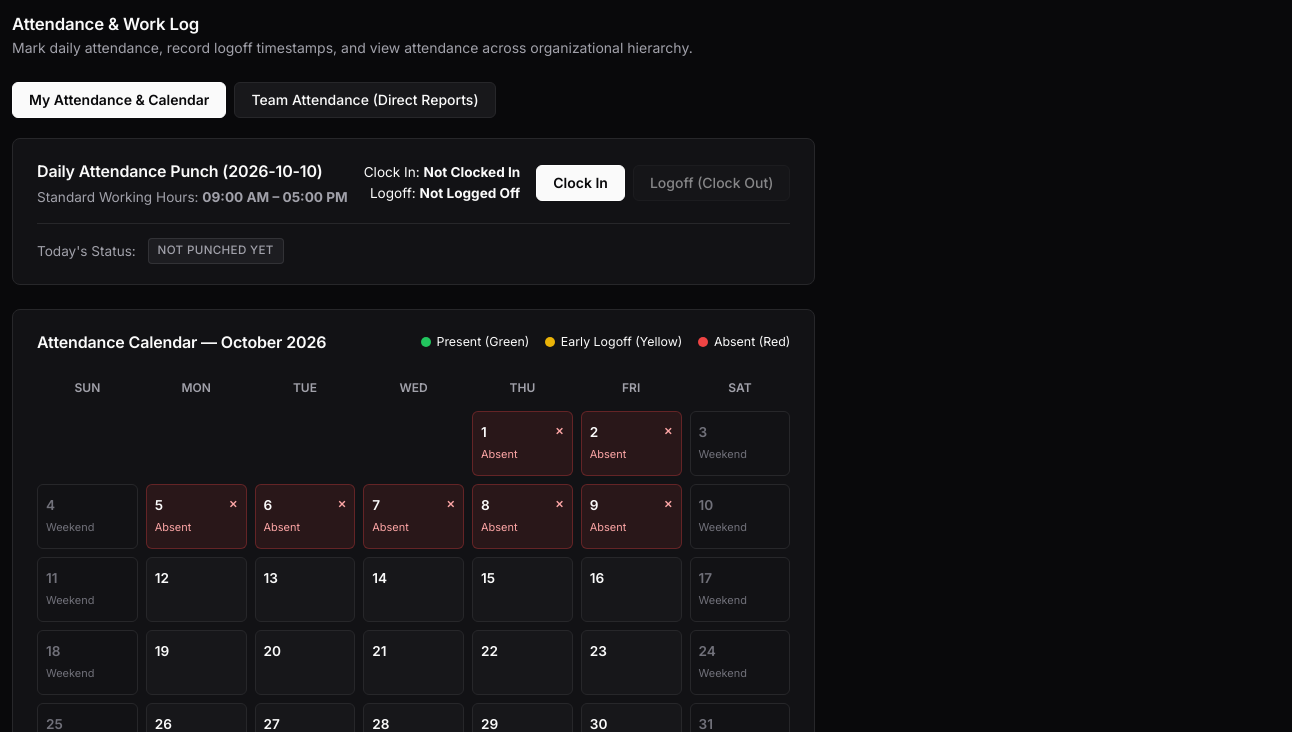
Attendance Hierarchy Scope › MANAGER sees Team Attendance tab
Expected: the button with test id "tab-my-attendance" is shown, [12,82,226,118]
Click the button with test id "tab-team-attendance".
click(365, 100)  # box [234,82,496,118]
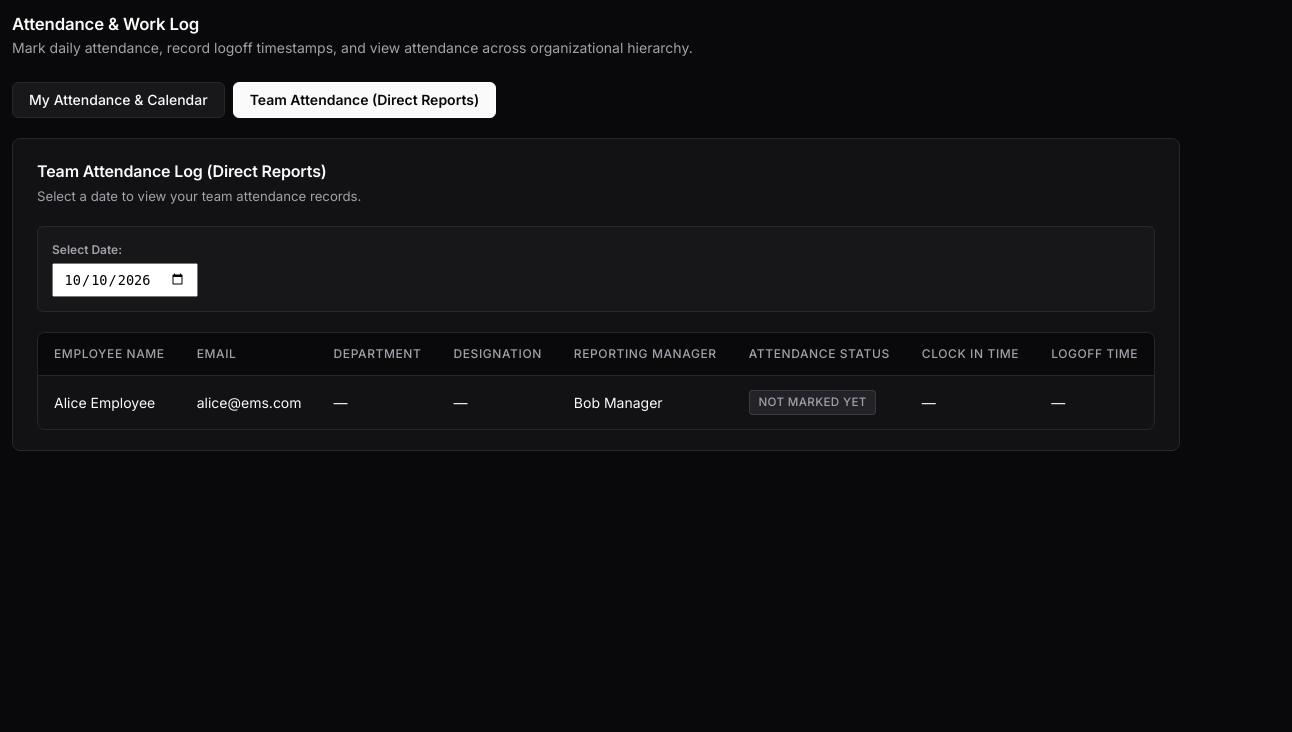
Result: the text "Alice Employee" is shown at [38,375,181,430]
